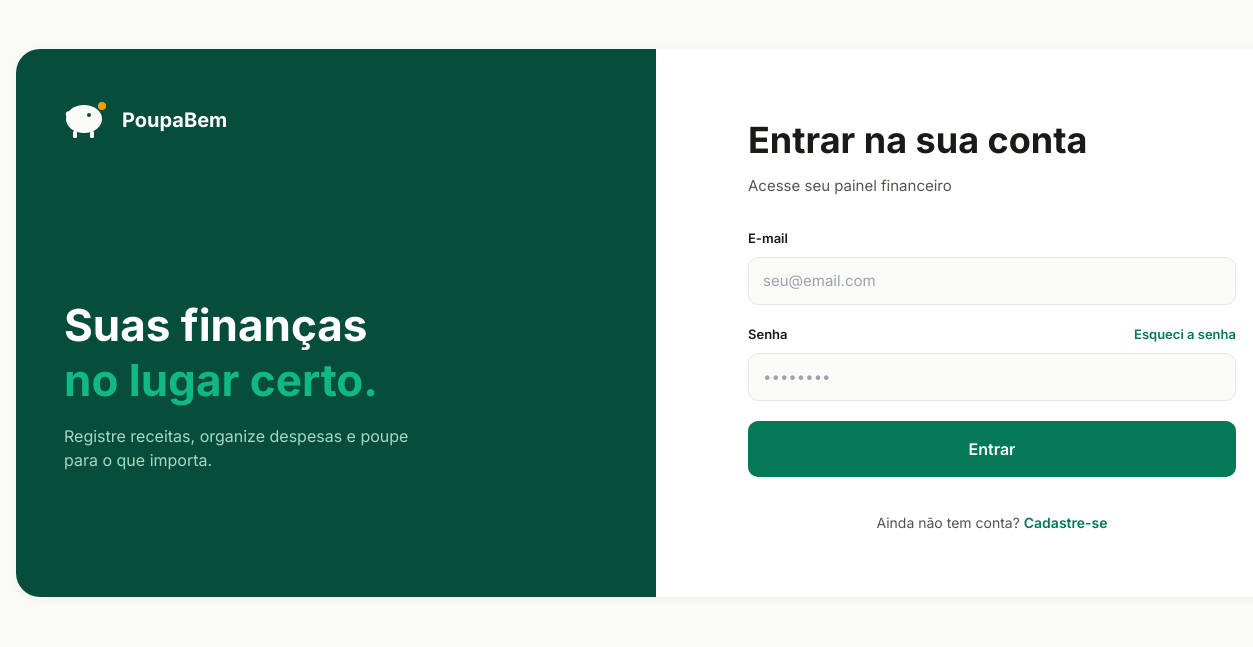
Test: Login (integração) › exibe a mensagem de erro retornada pela API
Type "a@a.com" into the field with placeholder "seu@email.com" at (992, 281), box [748,257,1236,305]
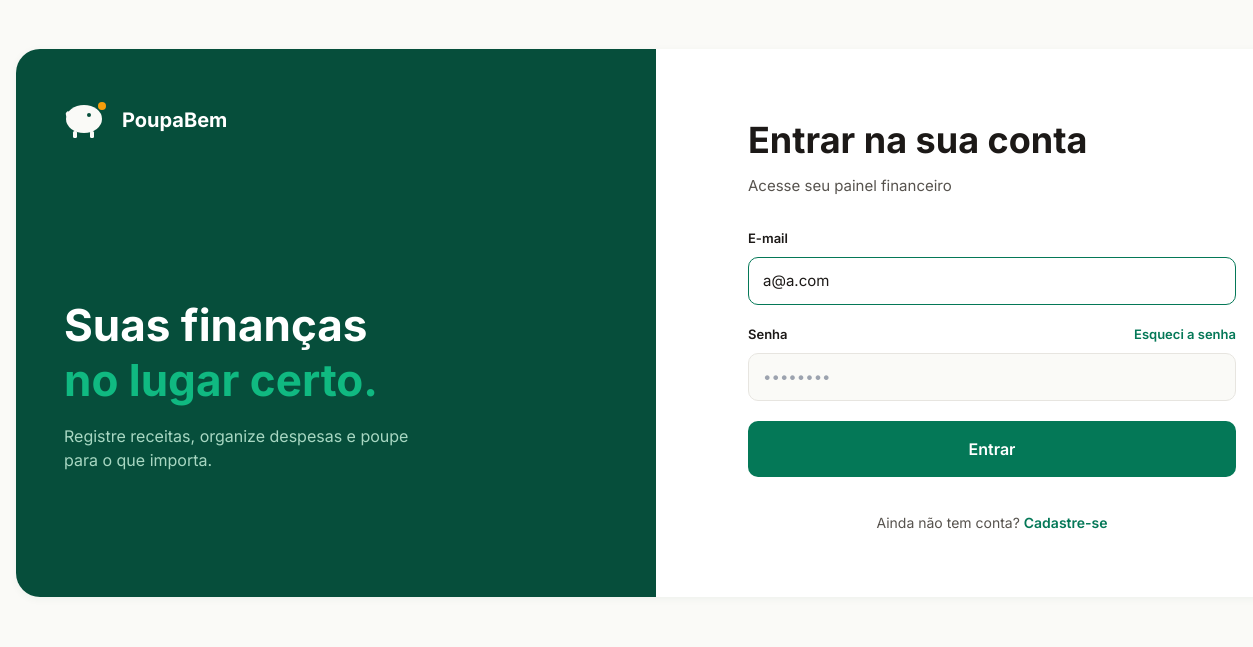
Type "errada" into the password field with placeholder "••••••••" at (992, 377), box [748,353,1236,401]
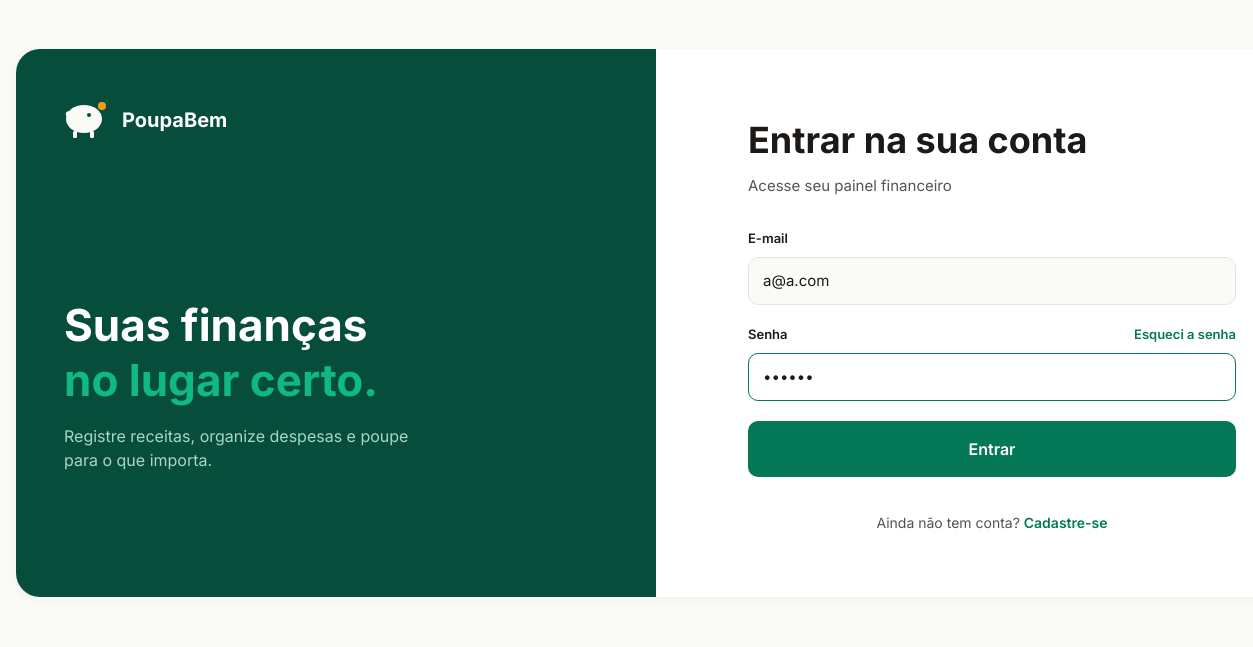
Click the button "Entrar" at (992, 449), box [748,421,1236,477]
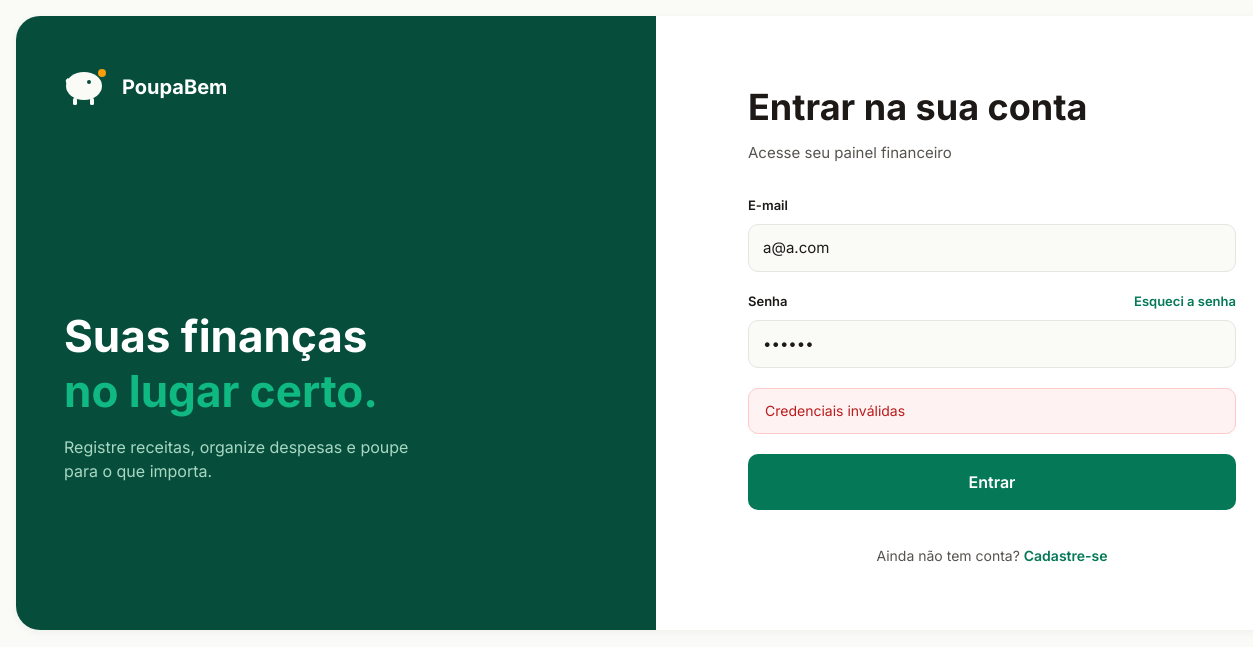
Result: the text "Credenciais inválidas" is shown at [748,388,1236,434]
